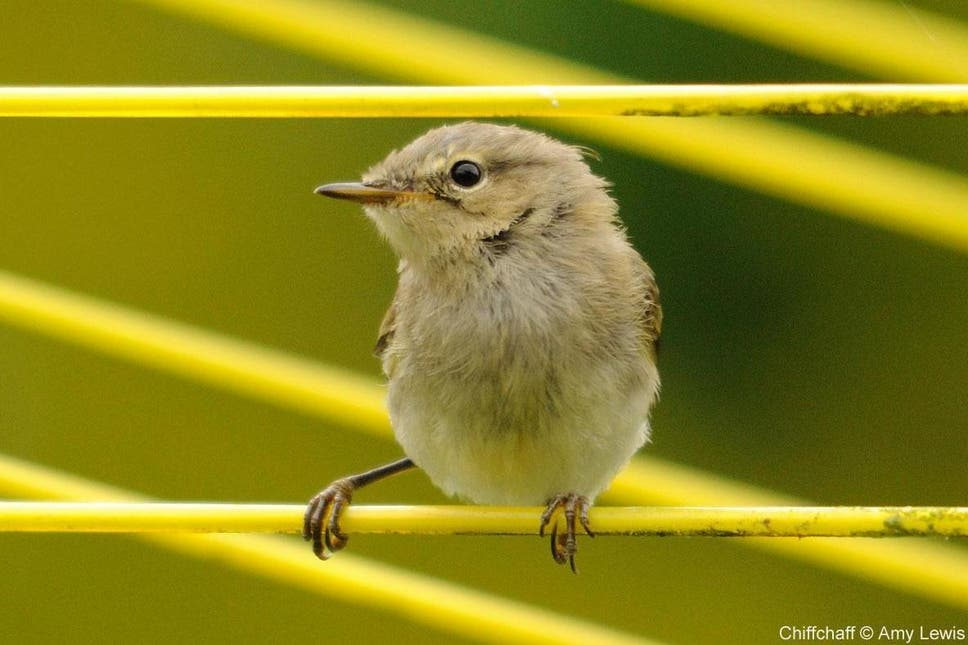bird: (275, 93, 679, 588)
